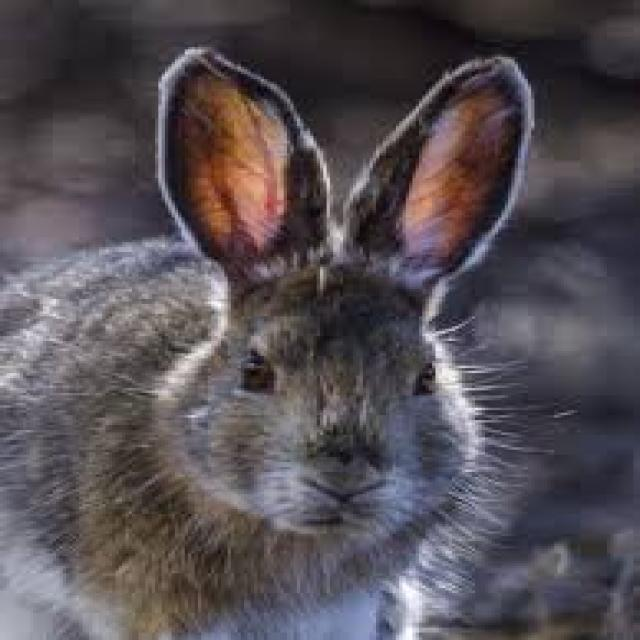Hare: (0, 34, 551, 640)
